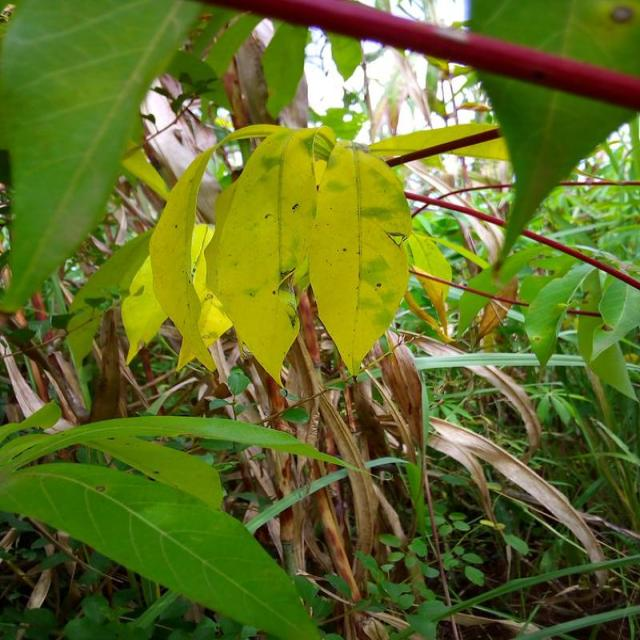cassava leaf: (0, 0, 201, 314), (1, 459, 326, 638), (462, 0, 638, 268), (204, 124, 336, 387), (306, 140, 413, 378)
